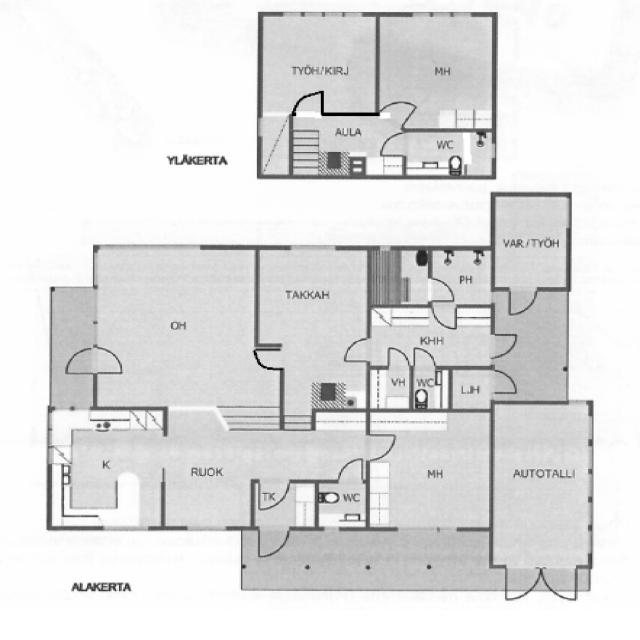door: (505, 564, 580, 599), (61, 346, 123, 377), (255, 527, 291, 556), (256, 482, 290, 509), (247, 348, 290, 369), (380, 98, 416, 122), (336, 458, 370, 482), (494, 368, 522, 394), (507, 289, 537, 313), (297, 90, 327, 113), (371, 437, 398, 462), (490, 332, 515, 358), (377, 133, 405, 154), (434, 303, 456, 329), (431, 275, 452, 301), (348, 339, 368, 365), (386, 346, 410, 366), (411, 348, 436, 364)
window: (584, 414, 596, 558), (94, 243, 196, 251), (404, 10, 470, 22), (282, 10, 369, 18), (397, 524, 464, 534), (293, 241, 348, 252), (104, 523, 154, 535), (316, 523, 339, 531)
zone: (94, 249, 266, 408), (493, 404, 590, 569), (49, 404, 163, 529), (384, 8, 494, 130), (372, 413, 483, 531), (259, 12, 381, 115), (264, 245, 366, 342), (494, 194, 568, 290), (289, 116, 402, 174), (280, 346, 368, 414), (402, 132, 499, 177), (368, 241, 433, 308), (436, 249, 492, 305), (248, 482, 313, 525), (366, 366, 412, 409), (320, 484, 365, 526), (452, 370, 494, 412), (410, 364, 450, 407)
